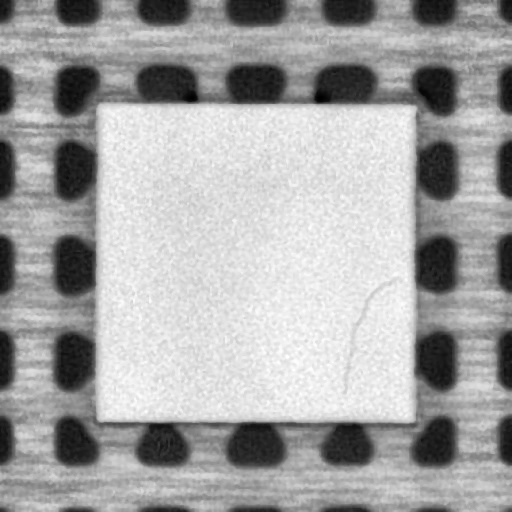DIE_CRACK: (340, 274, 400, 396)
